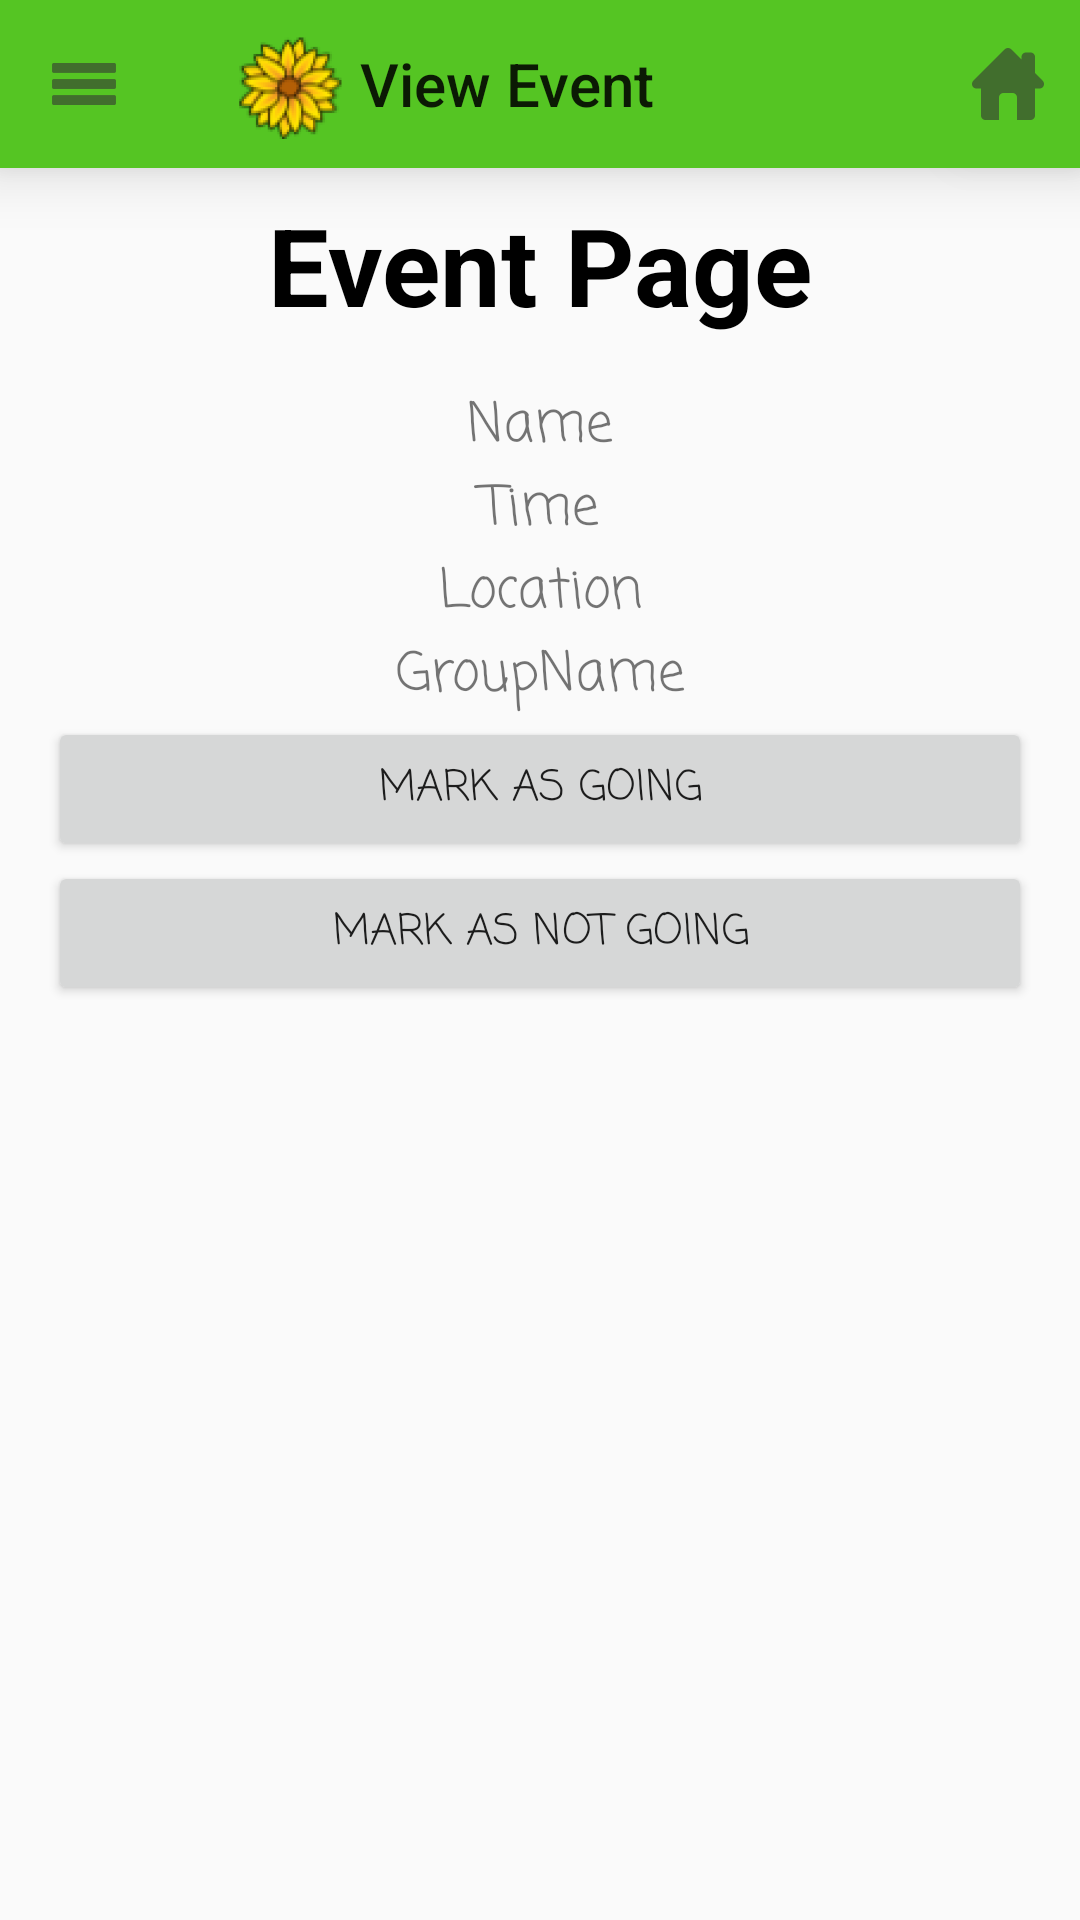

Icons on this 1080×1920 Android screen, each with its box as [x1=x1, y1=y1, x2=x2, y2=y2]:
home: [x1=972, y1=48, x2=1044, y2=120]
